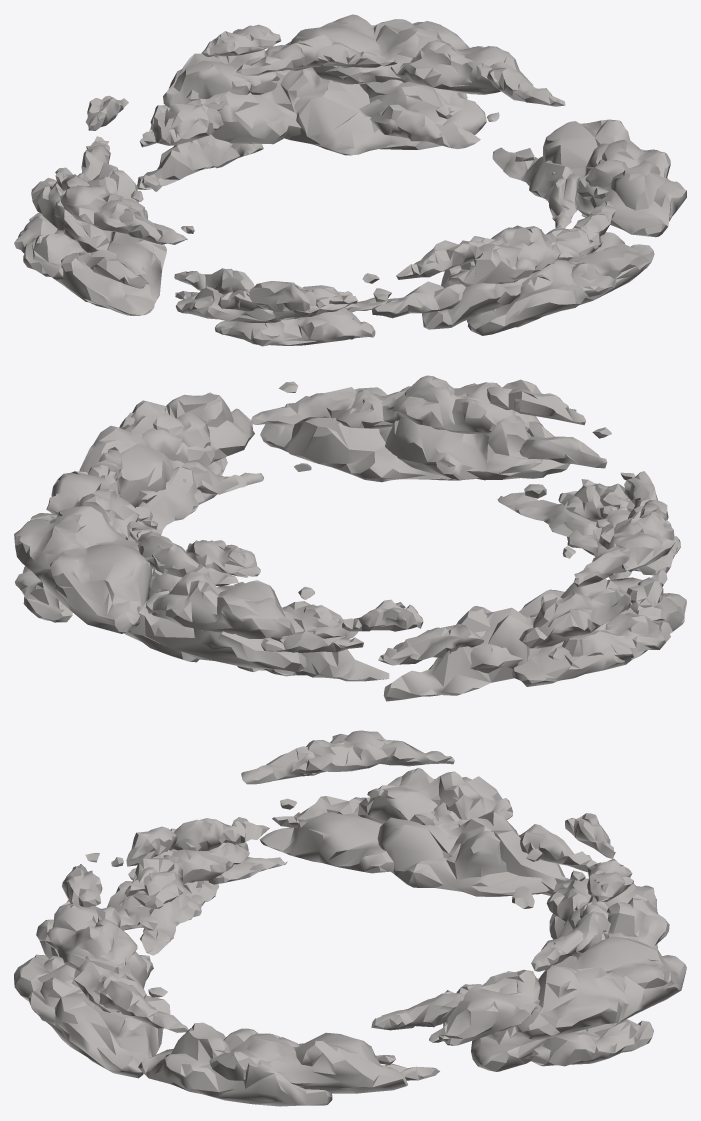
File: isle_clouds.gltf
The picture shows the model from 3 angles, top to bottom: view 1: azimuth 30°, elevation 25°; view 2: azimuth 150°, elevation 25°; view 3: azimuth 270°, elevation 25°; orthographic projection. The views are drawn at different scales.
Parts seen in each view (by area): view 1: isle_clouds; view 2: isle_clouds; view 3: isle_clouds.
Part boxes in pixels (bbox=[...]): isle_clouds: bbox=[14, 14, 686, 346]; isle_clouds: bbox=[14, 375, 686, 701]; isle_clouds: bbox=[14, 730, 686, 1106].
Bounding box in the file's own units: 310 × 57.83 × 295.
Materials: 1 (1 with a texture image).
